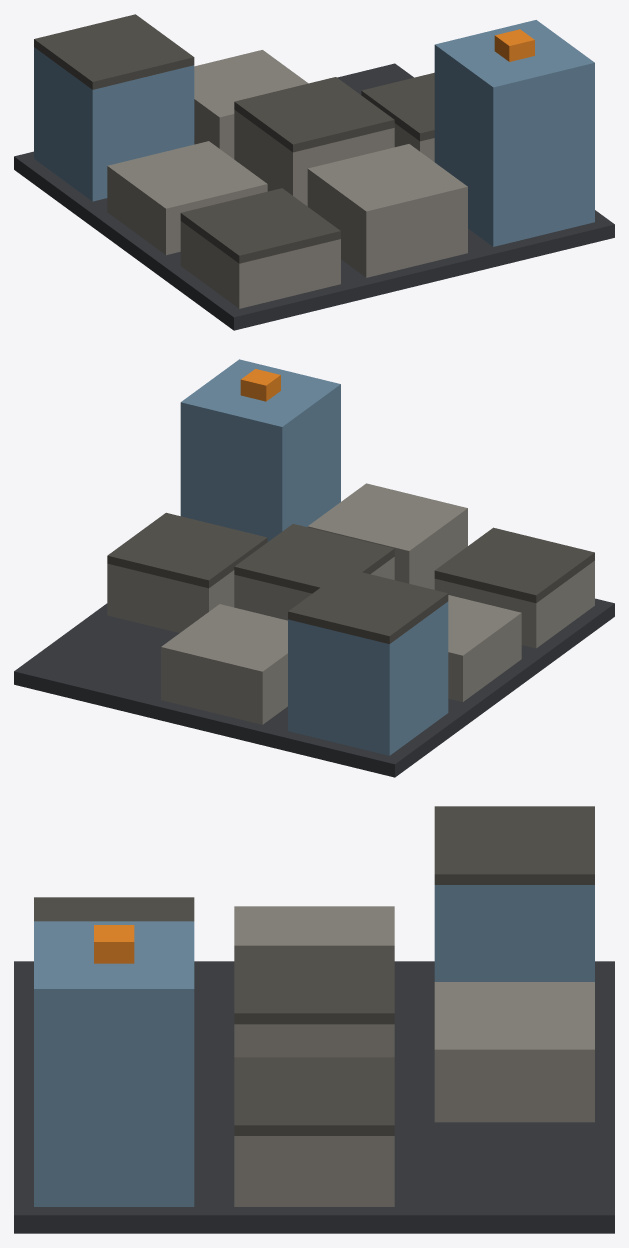
The model's file is overworld-settlement-town.glb.
The picture shows the model from 3 angles, top to bottom: view 1: azimuth 30°, elevation 25°; view 2: azimuth 150°, elevation 25°; view 3: azimuth 270°, elevation 25°; orthographic projection. The views are drawn at different scales.
Parts seen in each view (by area): view 1: block2_body, plate, block6_body, block1_body, block0_body, block4_roof, block0_roof, block6_roof, block1_roof, block3_roof, block2_roof, block4_body (+6 smaller); view 2: plate, block6_body, block2_body, block0_roof, block6_roof, block5_roof, block1_roof, block4_roof, block7_roof, block2_roof, block7_body, block5_body (+6 smaller); view 3: plate, block2_body, block6_body, block4_roof, block5_roof, block6_roof, block7_roof, block5_body, block2_roof, block7_body, block3_roof, block4_body (+2 smaller).
Boxes of the visible parts, bbox=[...] form: block2_body: bbox=[434, 53, 594, 246]; plate: bbox=[14, 63, 614, 330]; block6_body: bbox=[34, 47, 194, 201]; block1_body: bbox=[307, 177, 467, 277]; block0_body: bbox=[180, 221, 340, 308]; block4_roof: bbox=[234, 77, 394, 152]; block0_roof: bbox=[180, 188, 340, 263]; block6_roof: bbox=[34, 14, 194, 89]; block1_roof: bbox=[307, 144, 467, 219]; block3_roof: bbox=[107, 141, 267, 216]; block2_roof: bbox=[434, 20, 594, 95]; block4_body: bbox=[234, 110, 394, 206]; plate: bbox=[14, 598, 614, 777]; block6_body: bbox=[288, 601, 448, 755]; block2_body: bbox=[180, 392, 340, 541]; block0_roof: bbox=[434, 527, 594, 603]; block6_roof: bbox=[288, 568, 448, 643]; block5_roof: bbox=[107, 512, 267, 588]; block1_roof: bbox=[307, 483, 467, 558]; block4_roof: bbox=[234, 524, 394, 593]; block7_roof: bbox=[161, 604, 287, 679]; block2_roof: bbox=[180, 359, 340, 434]; block7_body: bbox=[161, 655, 287, 724]; block5_body: bbox=[107, 563, 234, 632]; plate: bbox=[14, 961, 614, 1233]; block2_body: bbox=[34, 1000, 194, 1206]; block6_body: bbox=[434, 885, 594, 981]; block4_roof: bbox=[234, 945, 394, 1024]; block5_roof: bbox=[234, 1057, 394, 1135]; block6_roof: bbox=[434, 806, 594, 884]; block7_roof: bbox=[434, 982, 594, 1060]; block5_body: bbox=[234, 1136, 394, 1206]; block2_roof: bbox=[34, 921, 194, 999]; block7_body: bbox=[434, 1060, 594, 1122]; block3_roof: bbox=[234, 906, 394, 945]; block4_body: bbox=[234, 1024, 394, 1057].
Size of the model in its own units: 0.6 by 0.284 by 0.6.
